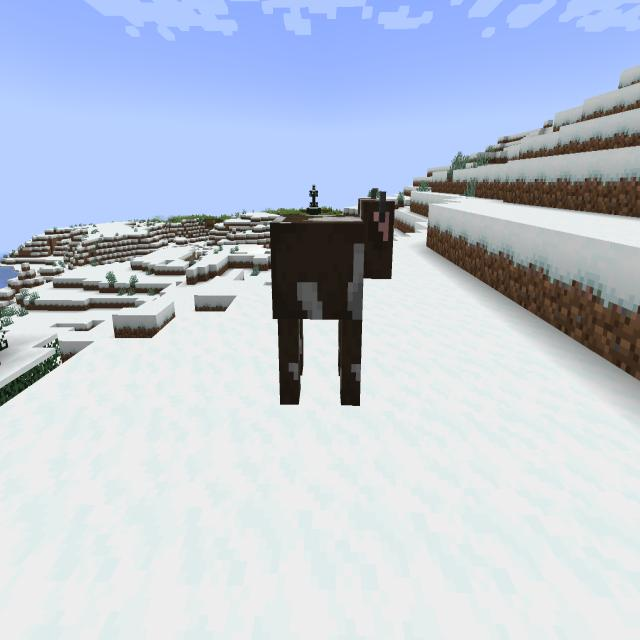cow: (260, 180, 401, 436)
